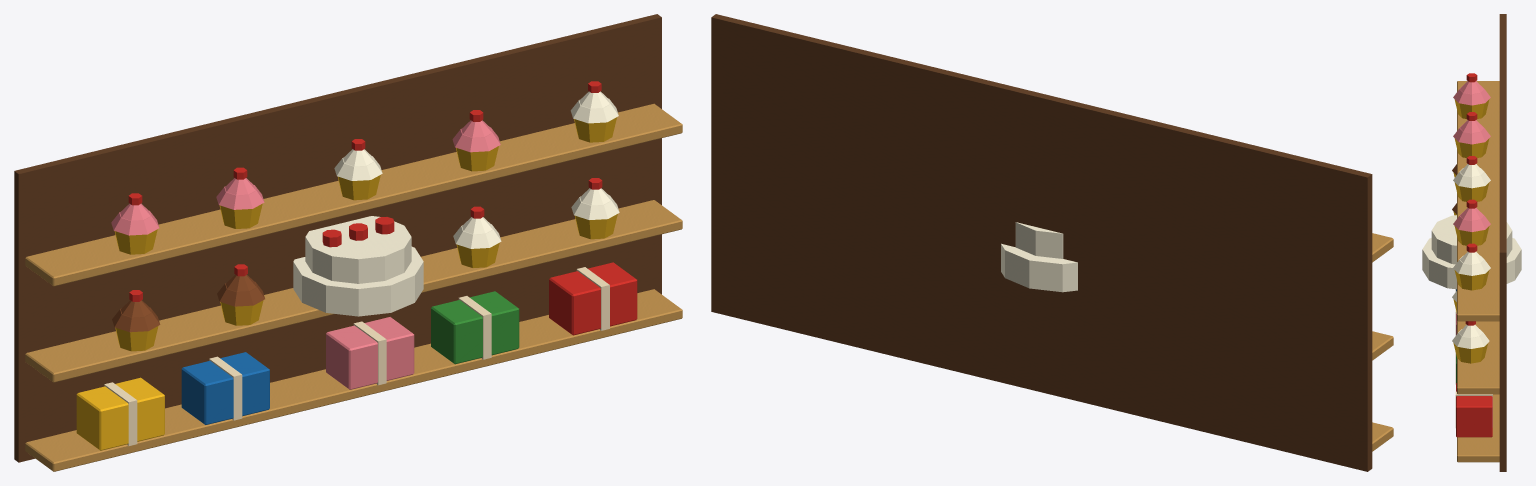
The model's file is sweet-display.fbx.
3 views of the same model, side by side, from view 1: azimuth 30°, elevation 25°; view 2: azimuth 150°, elevation 25°; view 3: azimuth 270°, elevation 25° (orthographic). The views are drawn at different scales.
Parts seen in each view (by area): view 1: sweet-display; view 2: sweet-display; view 3: sweet-display.
Boxes of the visible parts, x1,y1,x2,y2 form: sweet-display: (14, 14, 682, 471); sweet-display: (711, 14, 1393, 471); sweet-display: (1422, 14, 1521, 471).
Bounding box in the file's own units: 4900 × 2100 × 860.
1 material, 1 textured.
